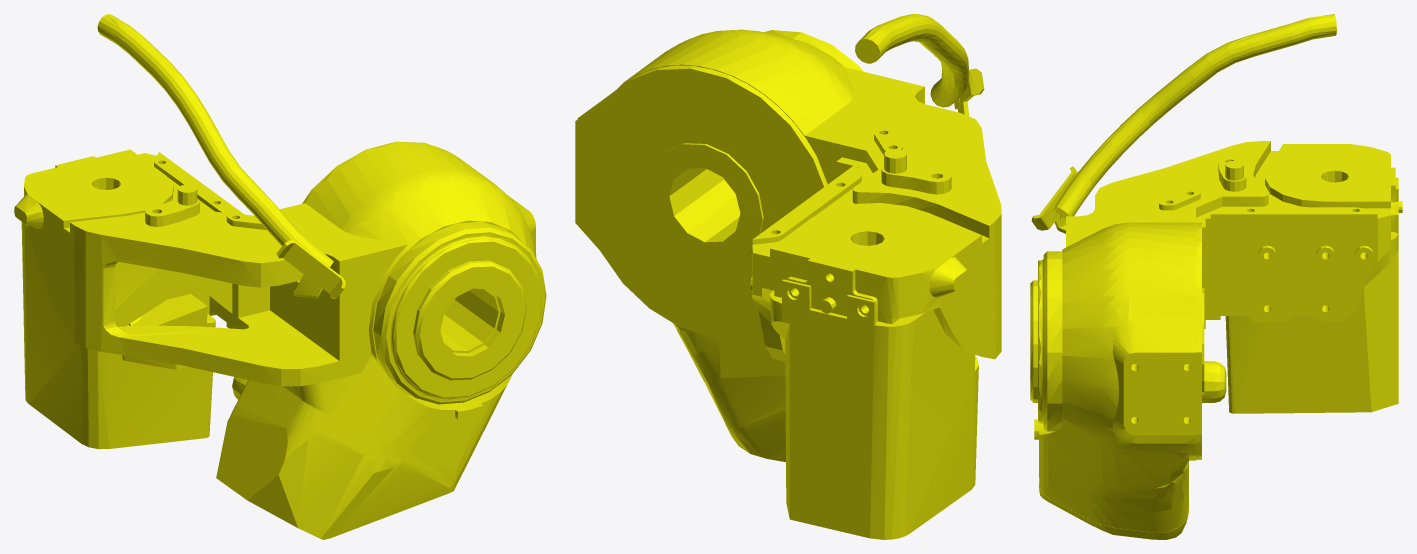
File: arm3.dae
The picture shows the model from 3 angles, left to right: view 1: azimuth 30°, elevation 25°; view 2: azimuth 150°, elevation 25°; view 3: azimuth 270°, elevation 25°; orthographic projection. The views are drawn at different scales.
Parts seen in each view (by area): view 1: arm3.001; view 2: arm3.001; view 3: arm3.001.
Part boxes in pixels (x1=…): arm3.001: x1=14, y1=14, x2=546, y2=539; arm3.001: x1=575, y1=14, x2=1001, y2=539; arm3.001: x1=1030, y1=14, x2=1402, y2=539.
Size of the model in its own units: 0.379 by 0.319 by 0.4109.
